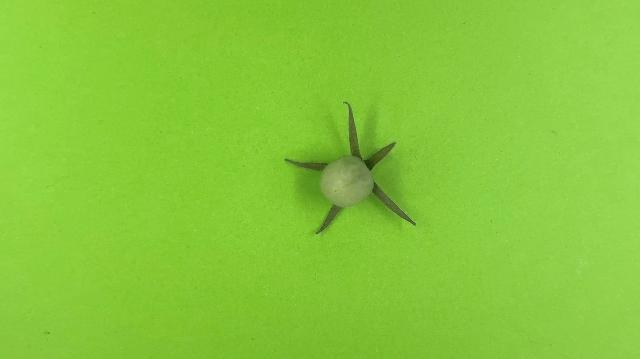Fruit Maturation: (319, 154, 376, 207)
